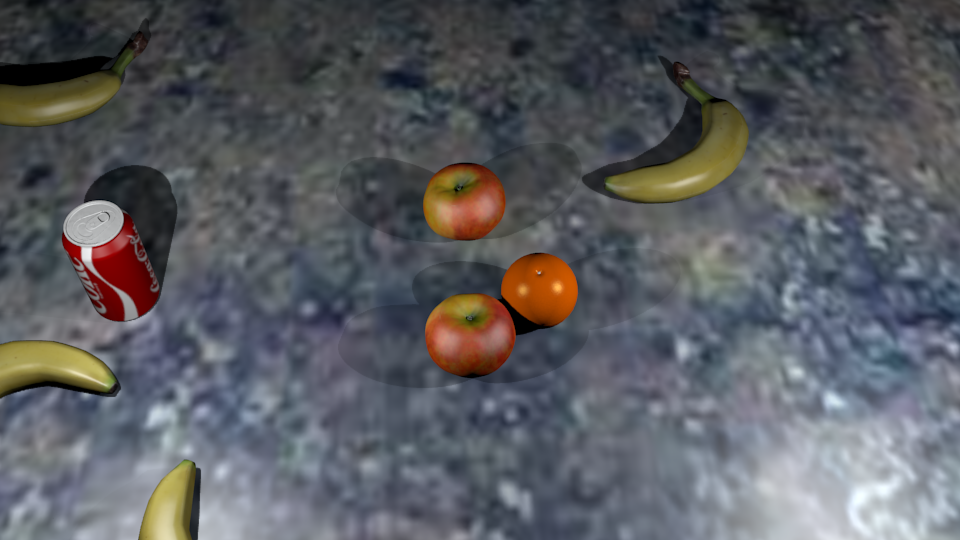apple: (426, 294, 516, 374), (424, 166, 506, 240)
banana: (604, 64, 749, 202), (1, 35, 148, 126), (1, 341, 118, 394), (139, 460, 196, 540)
cola_can: (63, 201, 160, 321)
orange: (502, 254, 578, 326)
